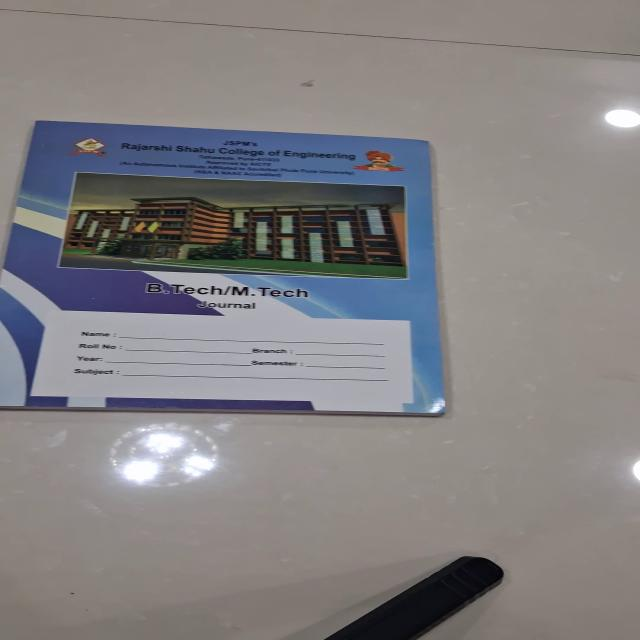paper: (1, 120, 447, 416)
